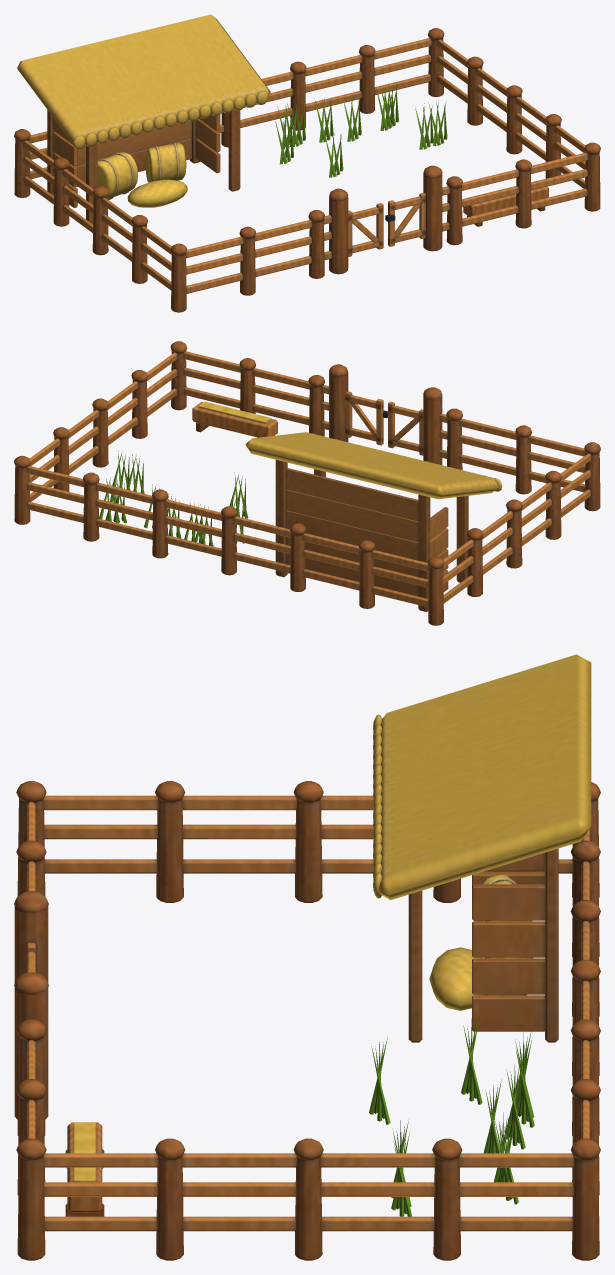
Rendered from emu_ranch.glb.
The picture shows the model from 3 angles, top to bottom: view 1: azimuth 30°, elevation 25°; view 2: azimuth 150°, elevation 25°; view 3: azimuth 270°, elevation 25°; orthographic projection. The views are drawn at different scales.
Visible parts, largest first — view 1: emu_ranch, gate1, gate0; view 2: emu_ranch, gate1, gate0; view 3: emu_ranch.
Part boxes in pixels (x1=…): emu_ranch: x1=14, y1=14, x2=600, y2=312; gate1: x1=385, y1=192, x2=425, y2=246; gate0: x1=348, y1=203, x2=383, y2=256; emu_ranch: x1=14, y1=341, x2=600, y2=625; gate1: x1=345, y1=391, x2=387, y2=445; gate0: x1=388, y1=401, x2=423, y2=455; emu_ranch: x1=14, y1=654, x2=600, y2=1260.
Bounding box in the file's own units: 3 × 0.9714 × 2.01.
1 material, 1 textured.
